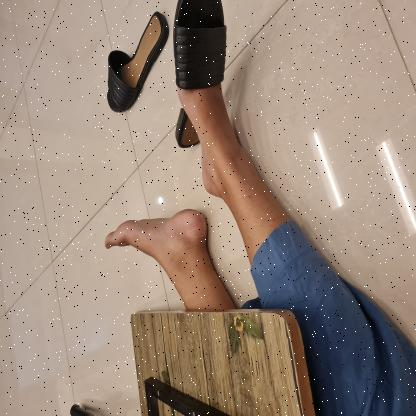leg: (178, 70, 291, 256), (100, 202, 237, 312)
